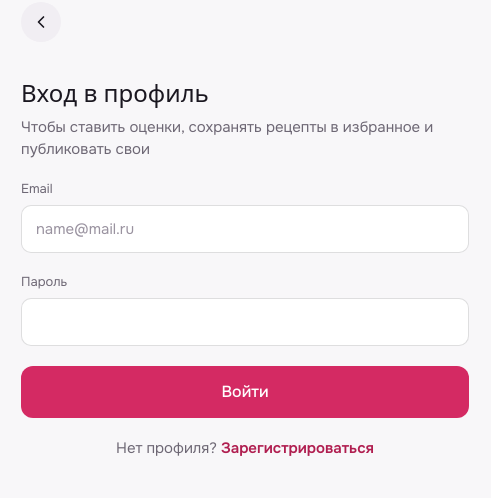
Scenario: формы входа и регистрации › неверный пароль — понятное сообщение от сервера
Type "test@example.com" into the field labelled "Email". click: point(245, 229)
box: [21,205,469,253]
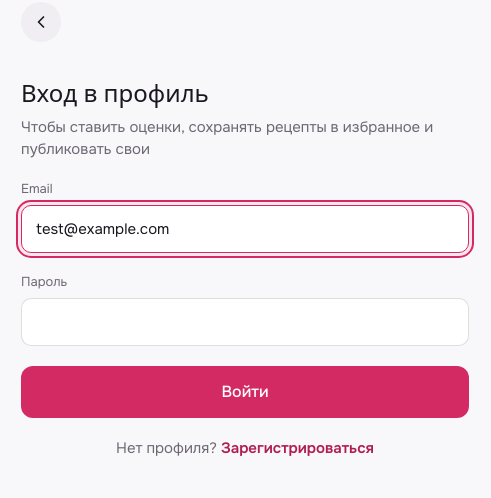
Type "wrong-pass" into the password field labelled "Пароль". click: point(245, 322)
box: [21,298,469,346]
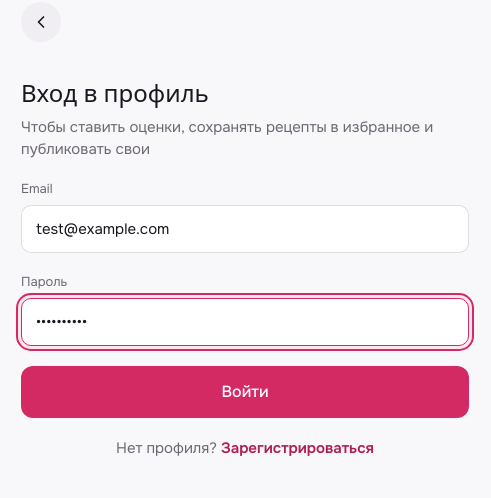
Click the button "Войти". click: point(245, 392)
box: [21,366,469,418]
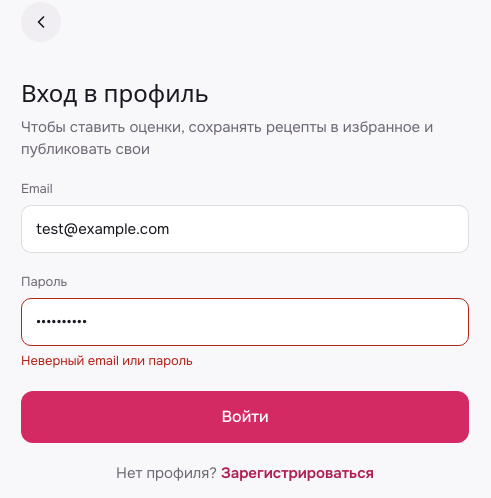
Now the text "Неверный email или пароль" is shown, box [21,352,193,369]
